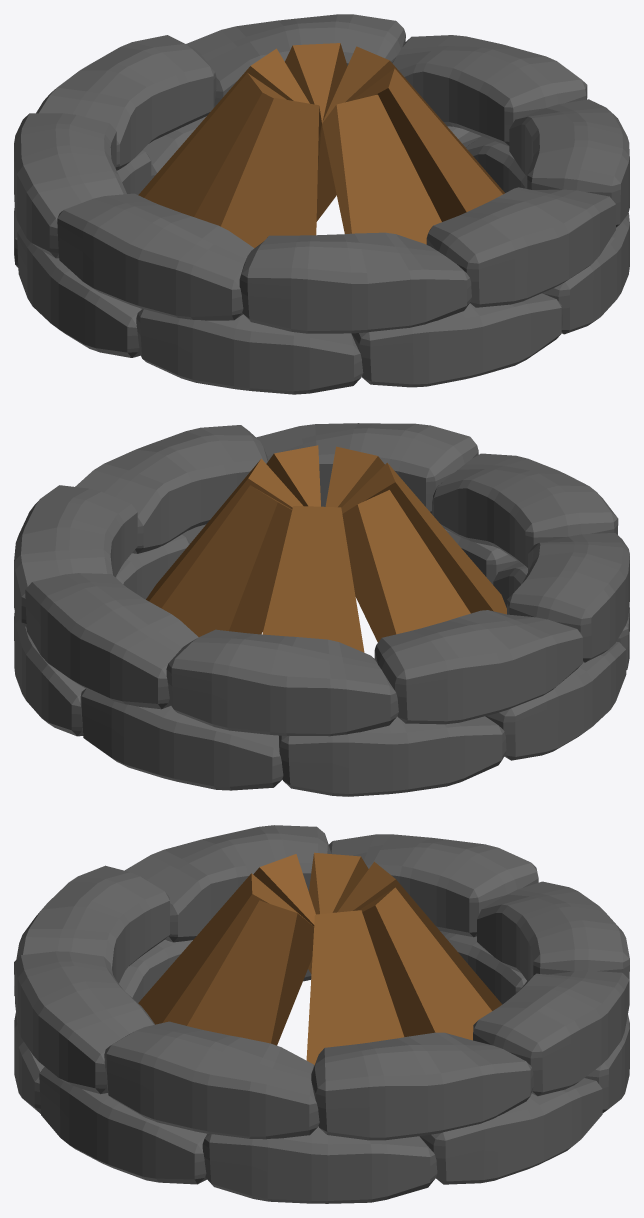
File: Campfire.fbx
3 views of the same model, one above another, from view 1: azimuth 30°, elevation 25°; view 2: azimuth 150°, elevation 25°; view 3: azimuth 270°, elevation 25° (orthographic).
Parts seen in each view (by area): view 1: Cube, Cylinder; view 2: Cube, Cylinder; view 3: Cube, Cylinder.
Boxes of the visible parts, x1,y1,x2,y2 form: Cube: [14, 14, 629, 394]; Cylinder: [138, 43, 504, 248]; Cube: [14, 423, 629, 796]; Cylinder: [146, 445, 506, 652]; Cube: [14, 825, 629, 1203]; Cylinder: [138, 852, 501, 1065].
Size of the model in its own units: 118 by 44.14 by 118.
